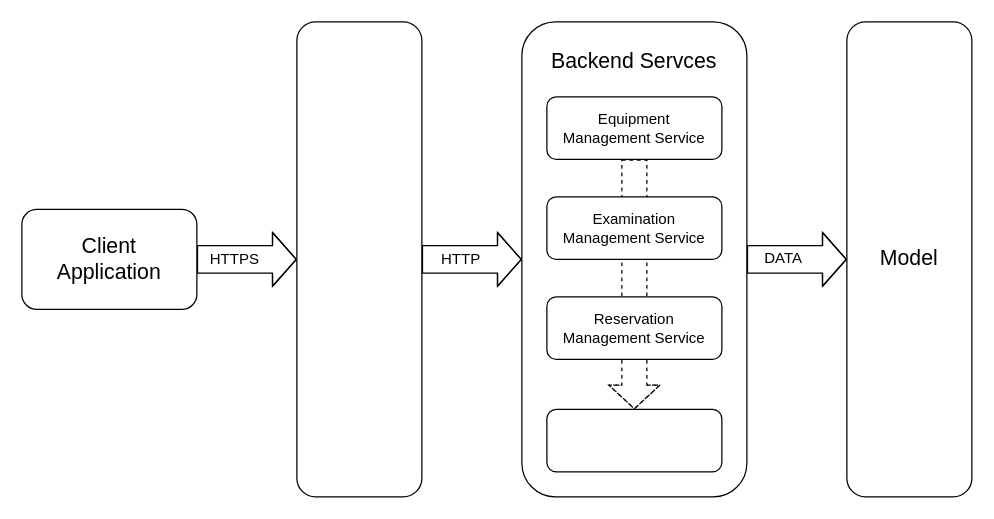
This 994x519 diagram has some shape labels left out. The box of each missing label's shape, as (x1, y1, x2, y2) in pixels:
API Gateway: (296, 21, 422, 497)
User Management Service: (546, 408, 722, 472)
